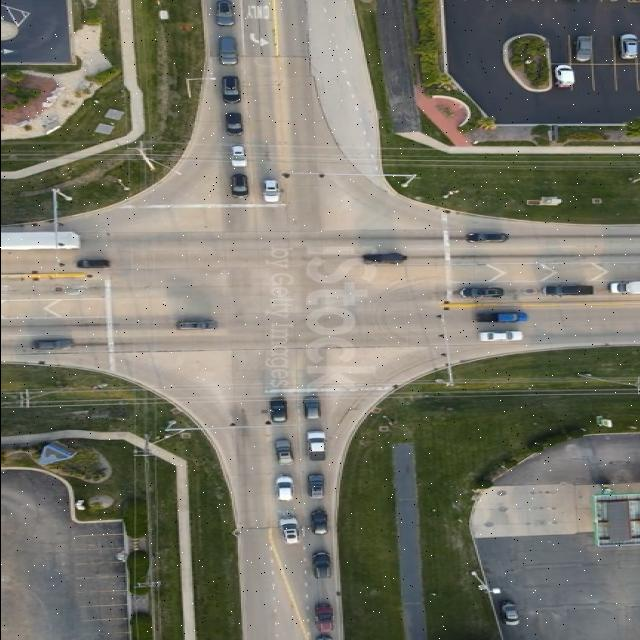car: (540, 284, 592, 296), (473, 312, 524, 323), (216, 37, 236, 65), (310, 551, 330, 579), (313, 603, 333, 631), (211, 0, 232, 26), (277, 518, 297, 544), (618, 34, 638, 59), (552, 66, 574, 88), (476, 328, 519, 339), (497, 602, 518, 624), (308, 511, 327, 535), (267, 398, 286, 422), (608, 280, 640, 294), (458, 288, 502, 298), (476, 332, 520, 342), (274, 478, 292, 502), (305, 476, 323, 500), (361, 254, 403, 264), (273, 441, 291, 464), (229, 173, 247, 196), (176, 320, 216, 330), (32, 340, 72, 350), (302, 398, 320, 420), (261, 179, 279, 201), (224, 112, 242, 134), (466, 234, 505, 244), (226, 145, 242, 167), (74, 262, 108, 270)
pickup-truck: (570, 36, 592, 64)
semi-trailer: (0, 227, 79, 250)
